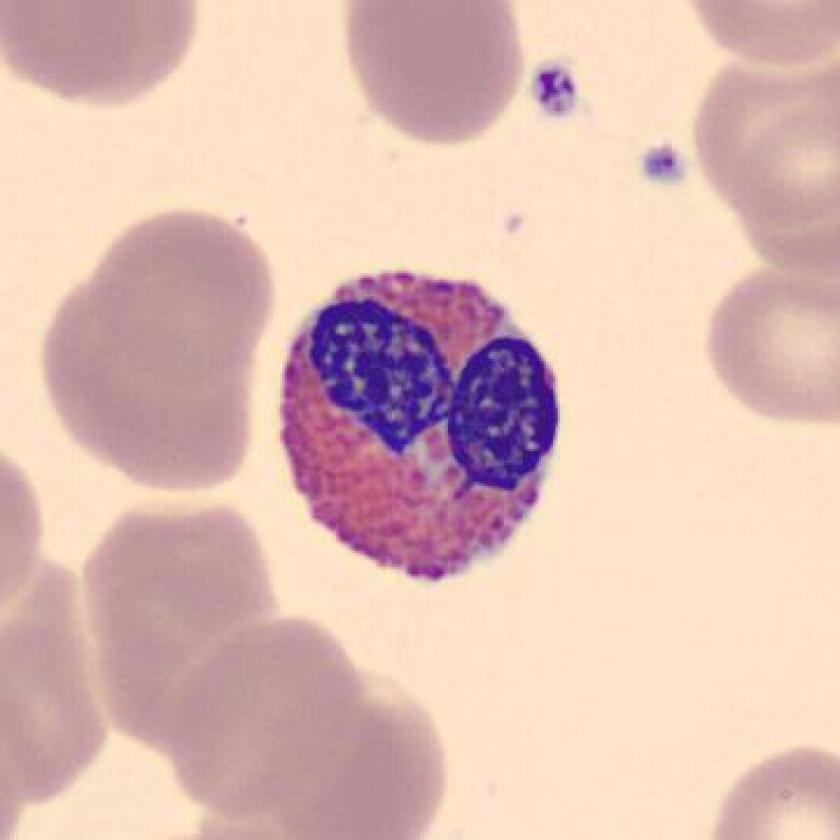eosinophil: (267, 258, 575, 600)
